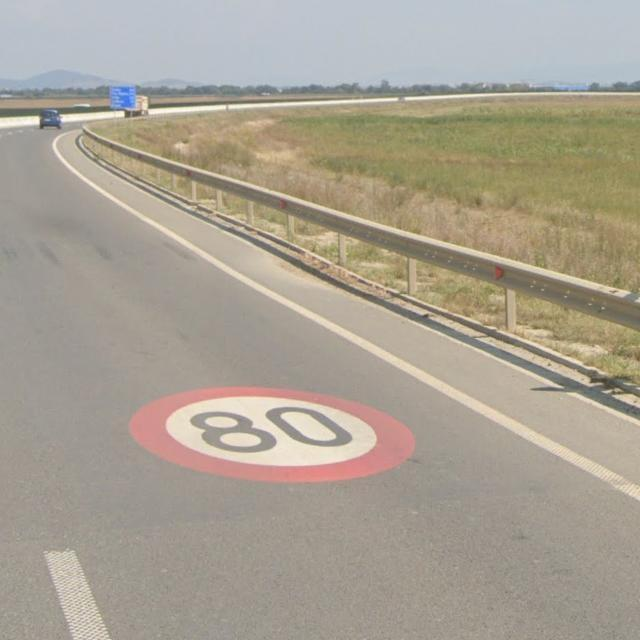forb_speed_over_80: (130, 382, 422, 490)
